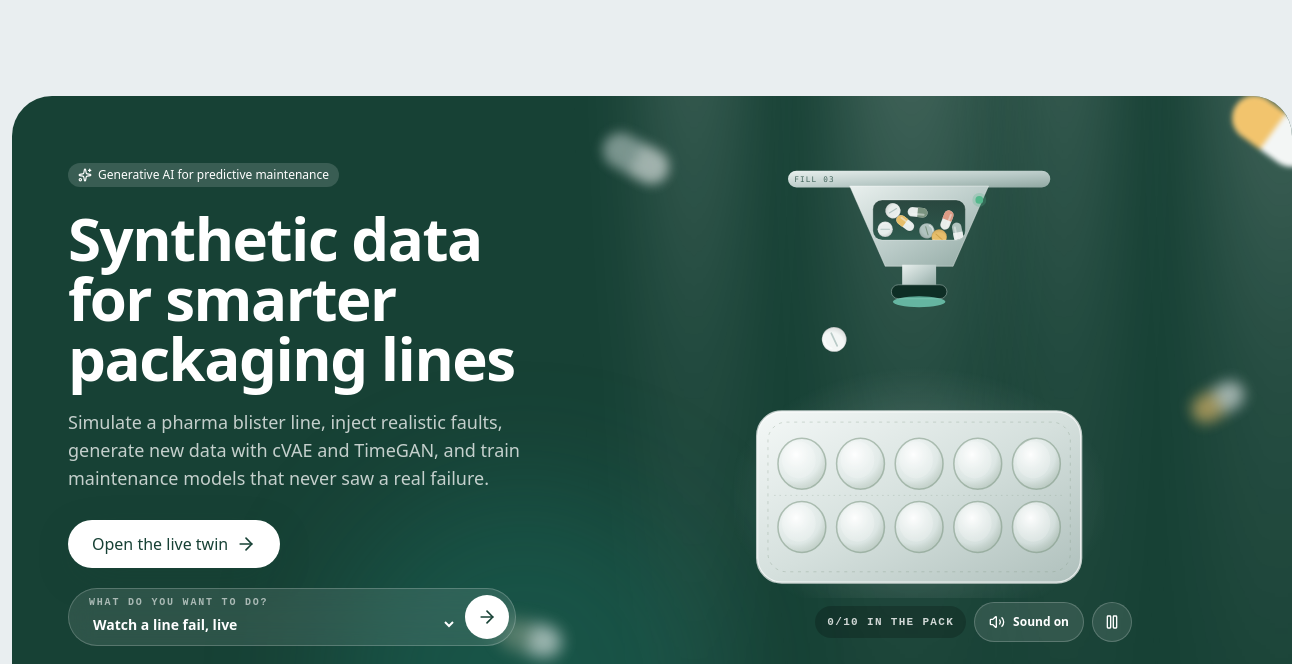
Hero › has the full headline for screen readers and a guided 'what do you want to do?' entry
Select "Describe a scenario in plain English" in the dropdown labelled "What do you want to do?". click: [273, 624]
box: x1=89 y1=610 x2=457 y2=638
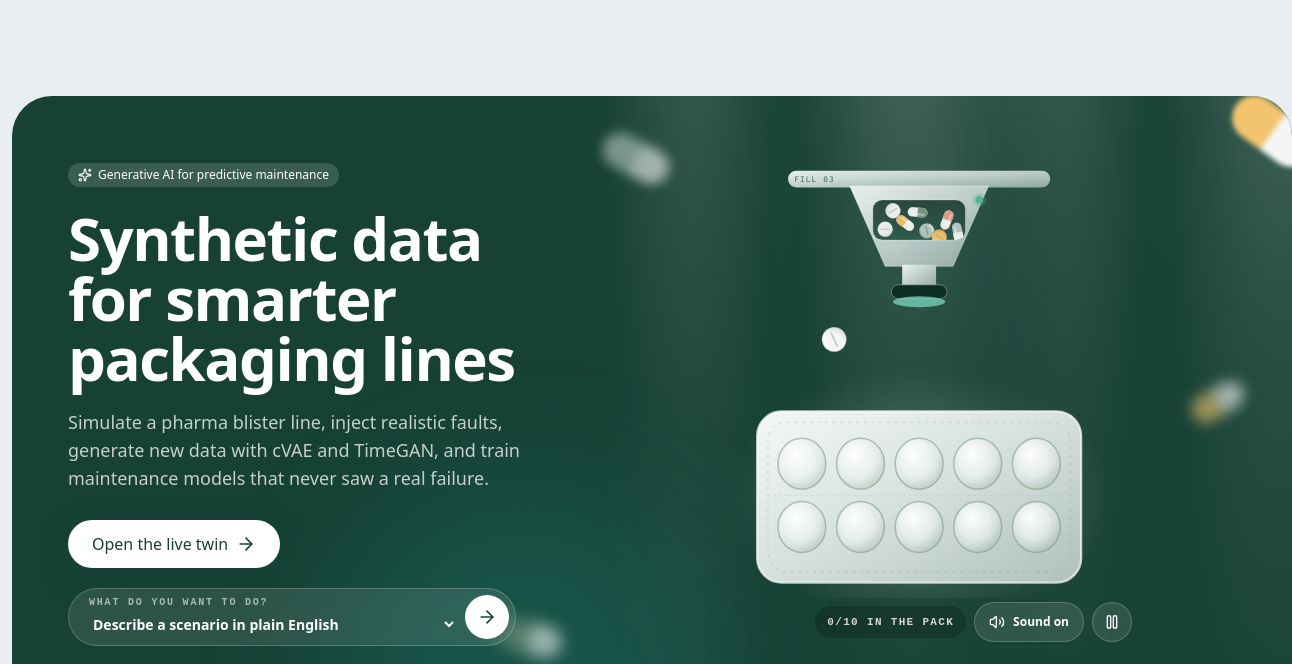
Click the button named "Go: Describe a scenario in plain English". click: [487, 616]
box: x1=465 y1=594 x2=509 y2=638
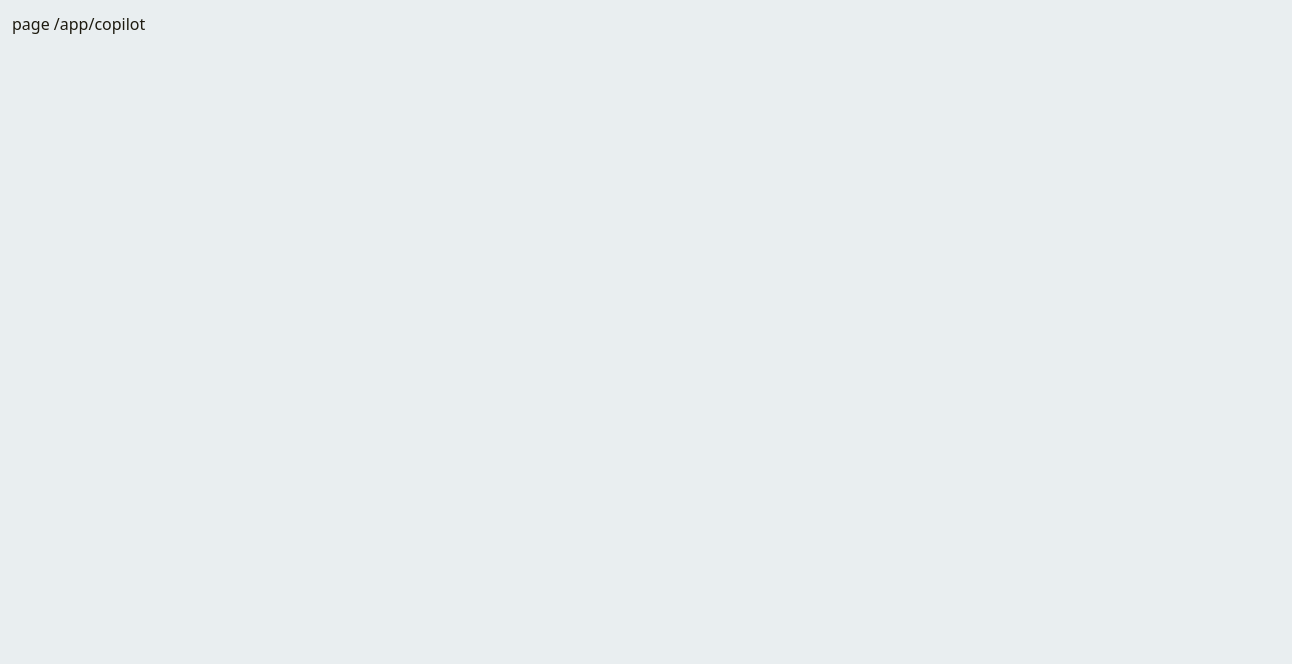
Result: the text "page /app/copilot" is shown at x1=12 y1=13 x2=145 y2=35
